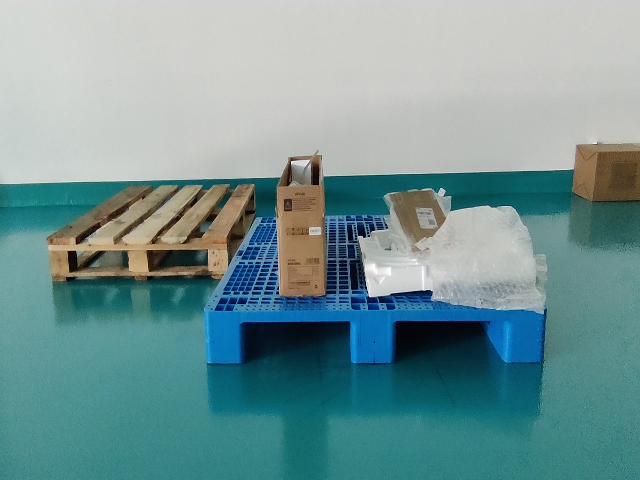block: (347, 311, 396, 366), (500, 308, 545, 366), (202, 310, 243, 366)
front: (204, 311, 545, 365)
hole pallet: (392, 322, 505, 365), (241, 322, 351, 361)
